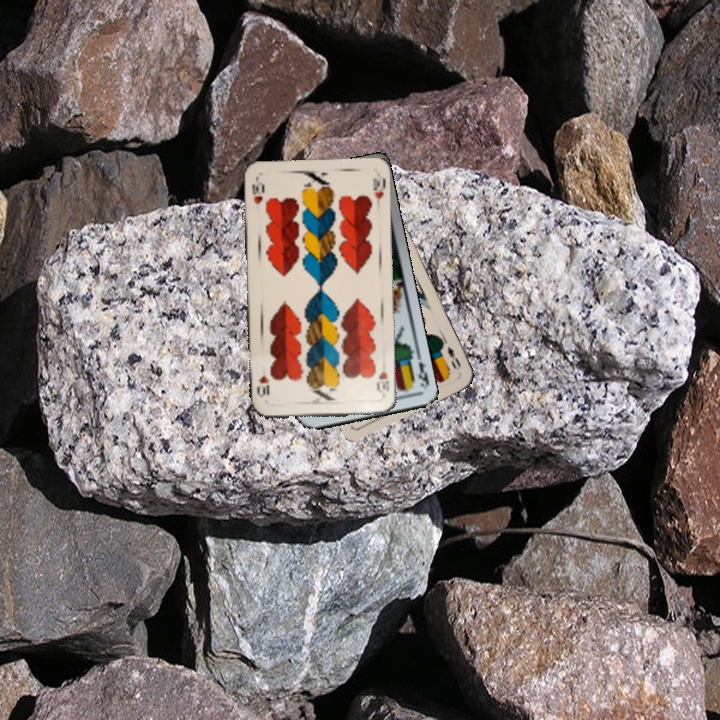EK: (414, 358, 431, 391)
EO: (443, 342, 464, 371)
H10: (373, 367, 391, 401), (248, 175, 266, 207)
